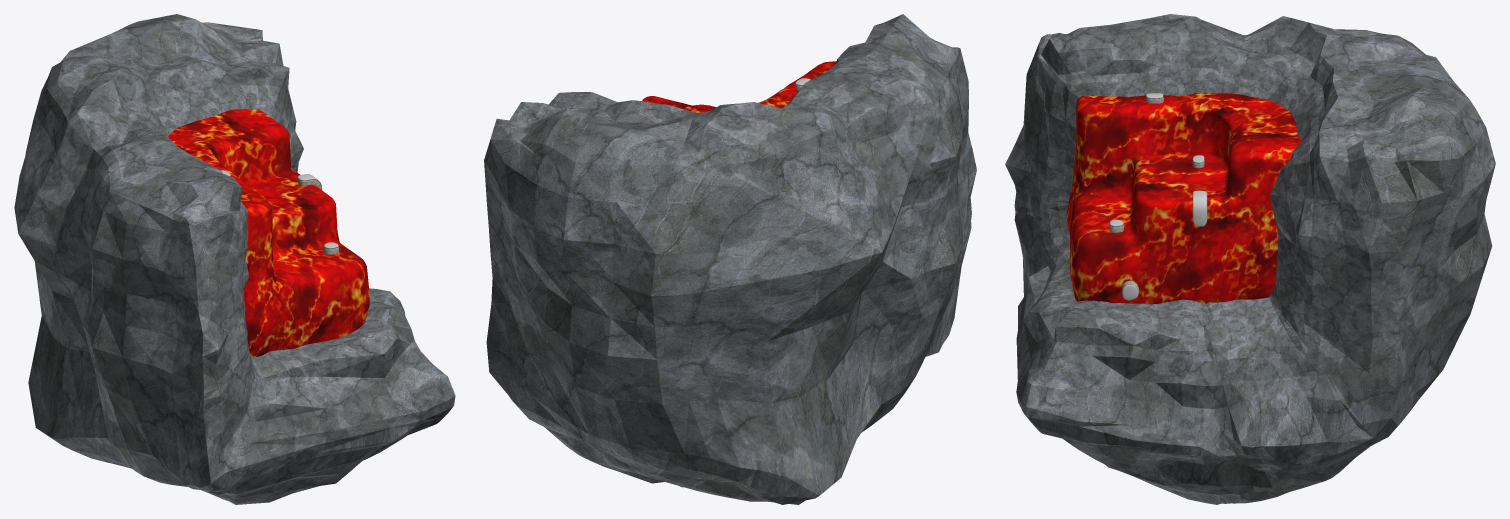
File: Unbuba.fbx
The picture shows the model from 3 angles, left to right: view 1: azimuth 30°, elevation 25°; view 2: azimuth 150°, elevation 25°; view 3: azimuth 270°, elevation 25°; orthographic projection. The views are drawn at different scales.
Parts seen in each view (by area): view 1: LavaCube; view 2: LavaCube; view 3: LavaCube.
Part boxes in pixels (x1=…): LavaCube: x1=14, y1=14, x2=455, y2=504; LavaCube: x1=484, y1=14, x2=976, y2=504; LavaCube: x1=1005, y1=14, x2=1495, y2=504.
Size of the model in its own units: 2000327 by 2364588 by 2528795.
